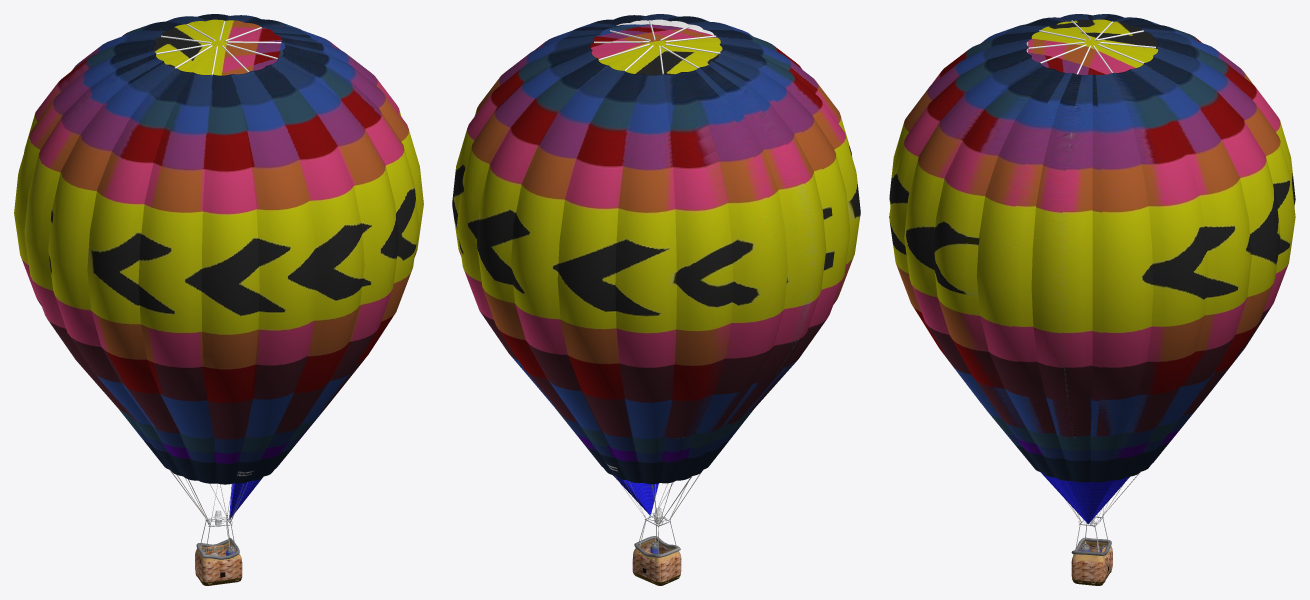
File: balloon.glb
The picture shows the model from 3 angles, left to right: view 1: azimuth 30°, elevation 25°; view 2: azimuth 150°, elevation 25°; view 3: azimuth 270°, elevation 25°; orthographic projection.
Parts seen in each view (by area): view 1: Object_57; view 2: Object_57; view 3: Object_57.
Boxes of the visible parts, left/top/right/bottom form: Object_57: left=14, top=14, right=423, bottom=585; Object_57: left=452, top=14, right=860, bottom=585; Object_57: left=889, top=14, right=1295, bottom=585.
Bounding box in the file's own units: 0.4803 × 0.6991 × 0.4802.
Materials: 53 (39 with a texture image).
